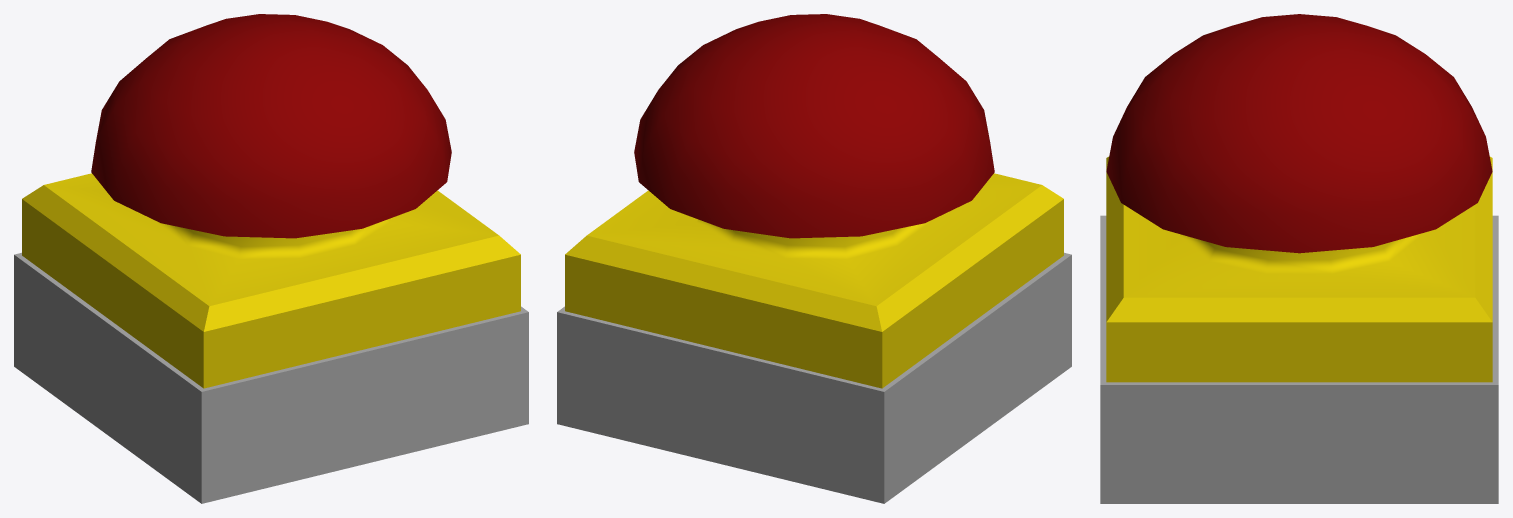
Rendered from buzzer_control_base.fbx.
The picture shows the model from 3 angles, left to right: view 1: azimuth 30°, elevation 25°; view 2: azimuth 150°, elevation 25°; view 3: azimuth 270°, elevation 25°; orthographic projection. The views are drawn at different scales.
Visible parts, largest first — view 1: buzzer_panel, buzzer_button; view 2: buzzer_panel, buzzer_button; view 3: buzzer_panel, buzzer_button.
Boxes of the visible parts, x1,y1,x2,y2 form: buzzer_panel: (14,173,528,503); buzzer_button: (91,14,451,238); buzzer_panel: (557,173,1071,503); buzzer_button: (634,14,994,238); buzzer_panel: (1100,156,1498,503); buzzer_button: (1106,14,1492,253).
Bounding box in the file's own units: 2.08 × 2.19 × 2.06.
